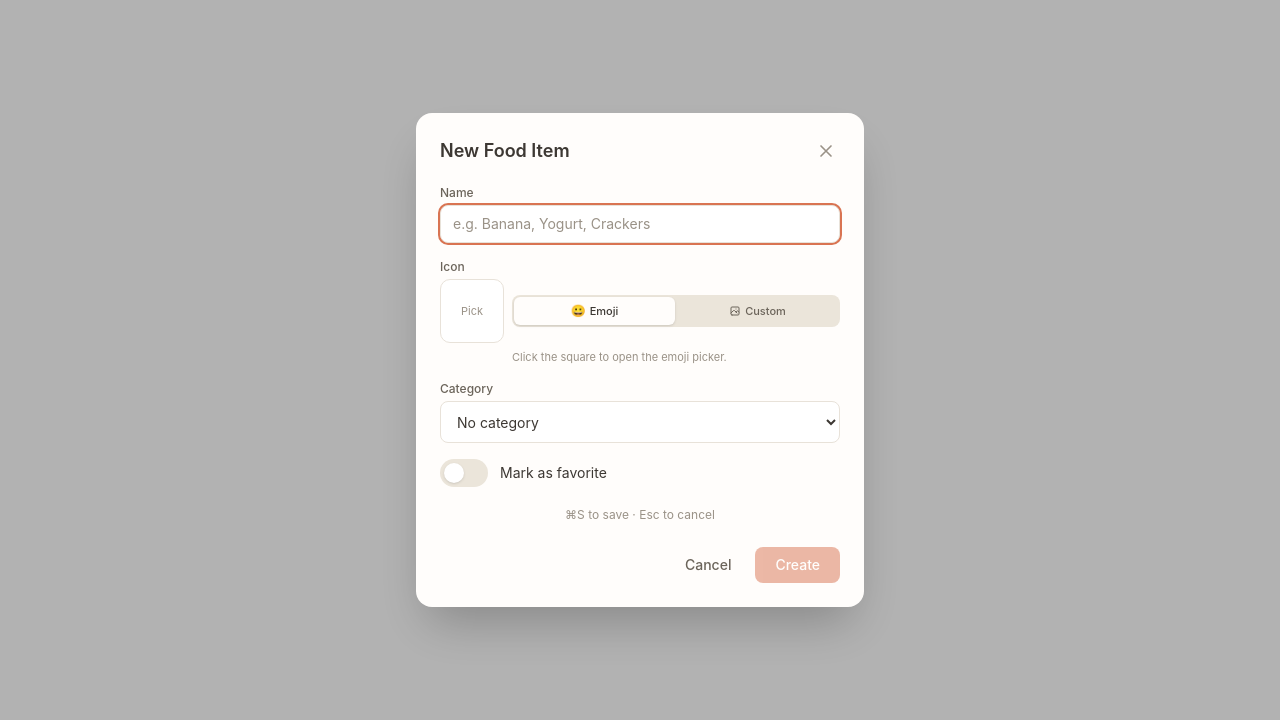
Test case: ItemFormModal › food_item variant (mockup emoji-icon-xor-option-d) › Emoji tab is active by default; Custom tab reveals the URL input on switch
This screenshot has width=1280, height=720.
Expected: the field with placeholder "paste an image URL" is not shown
Note: Click Custom tab
Click the tab "Custom": (758, 311) [677, 297, 838, 325]
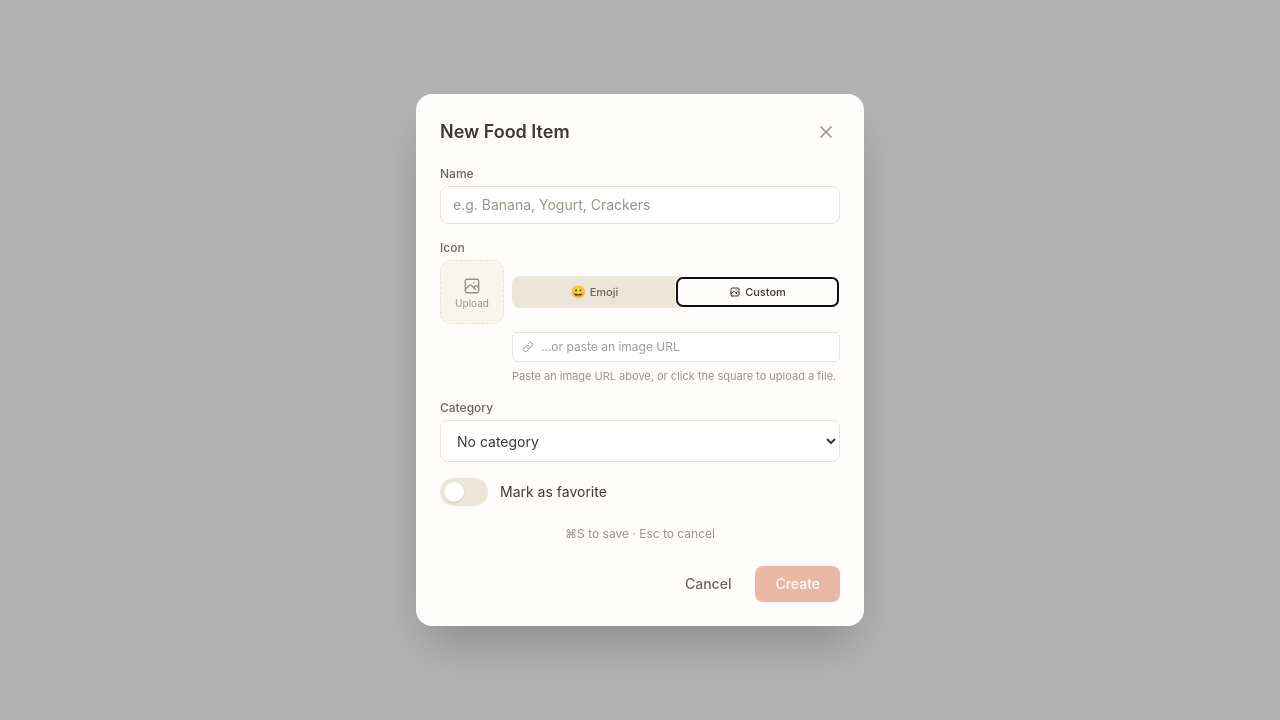
Now the field with placeholder "…or paste an image URL" is shown, box [512, 332, 840, 362]
